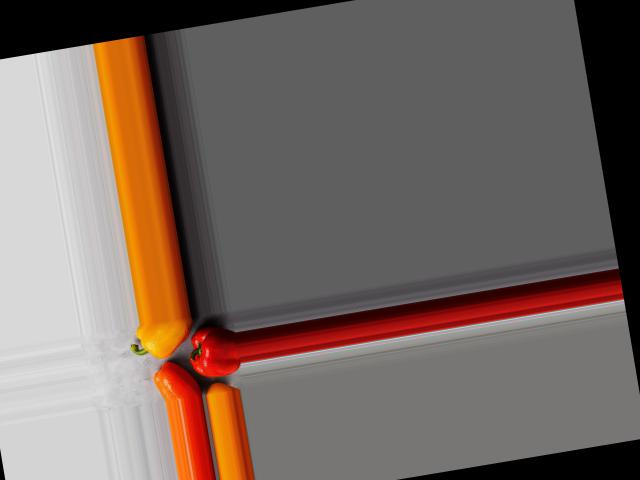bell_pepper: (186, 318, 241, 380)
